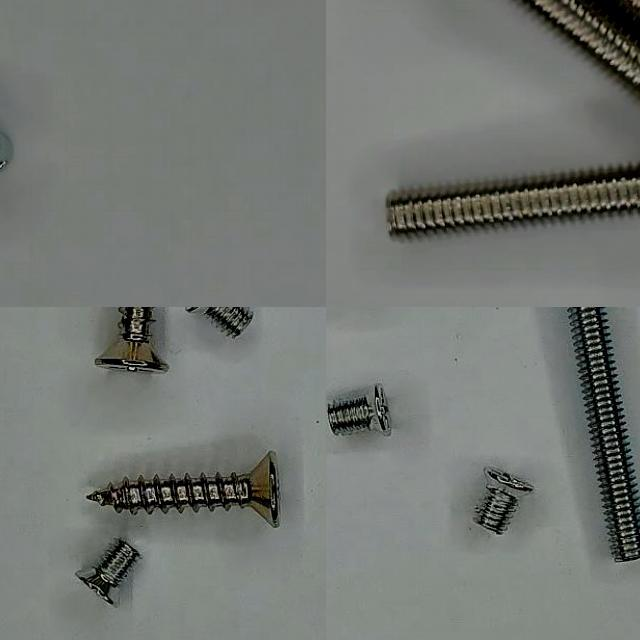Screw: (567, 307, 640, 562), (385, 165, 640, 237), (86, 452, 280, 529), (522, 0, 640, 91), (94, 307, 169, 373), (75, 539, 139, 608), (473, 467, 534, 535), (327, 384, 391, 436), (204, 307, 253, 338)
